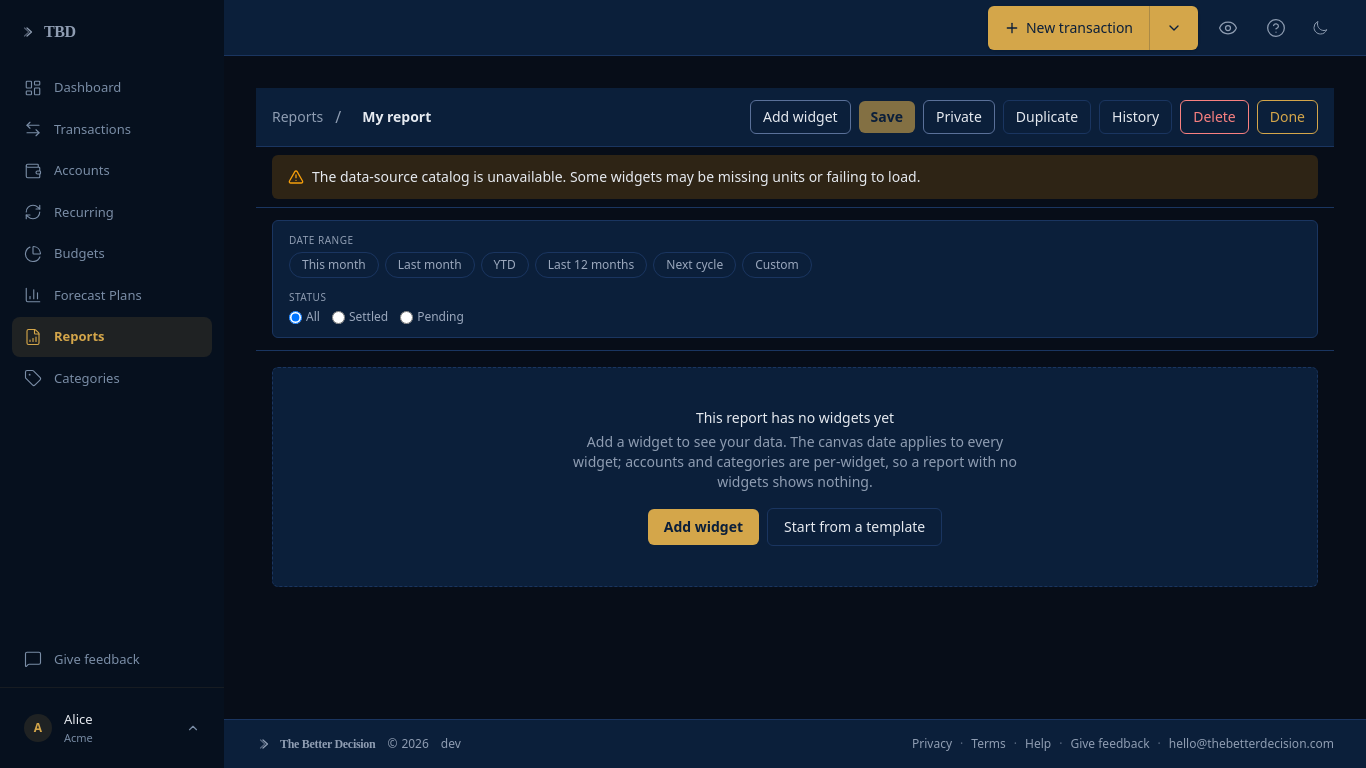
Test: ReportEditorPage › adds a KPI widget through the picker and surfaces it on the canvas
Expected: the element with test id "report-editor" is shown, [256, 88, 1334, 603]
What coordinates should you click on to do the following:
click the button with test id "report-editor-add-widget"
I would click on:
 (800, 117)
Its box is [750, 100, 851, 134].
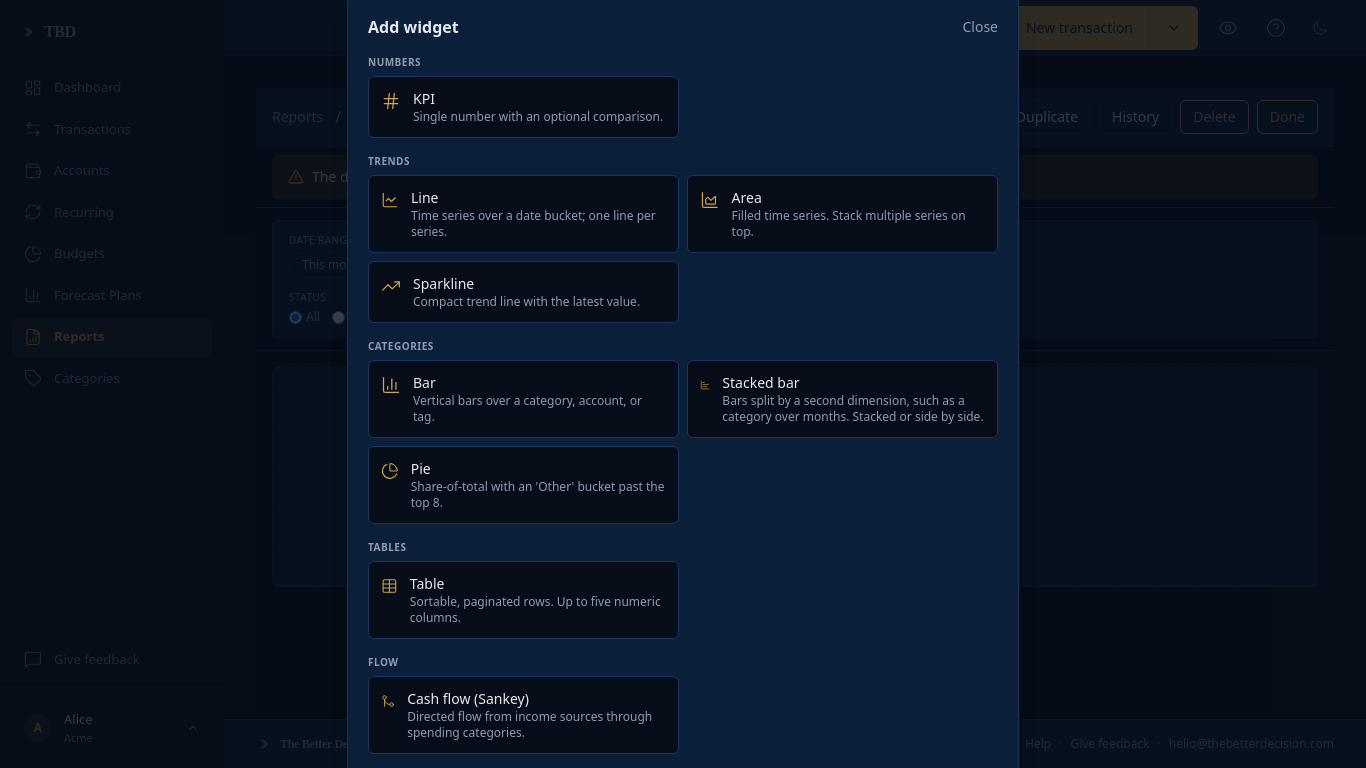
What coordinates should you click on to do the following:
click the button with test id "widget-picker-option-kpi"
I would click on:
 (524, 106)
Its box is [368, 76, 679, 138].
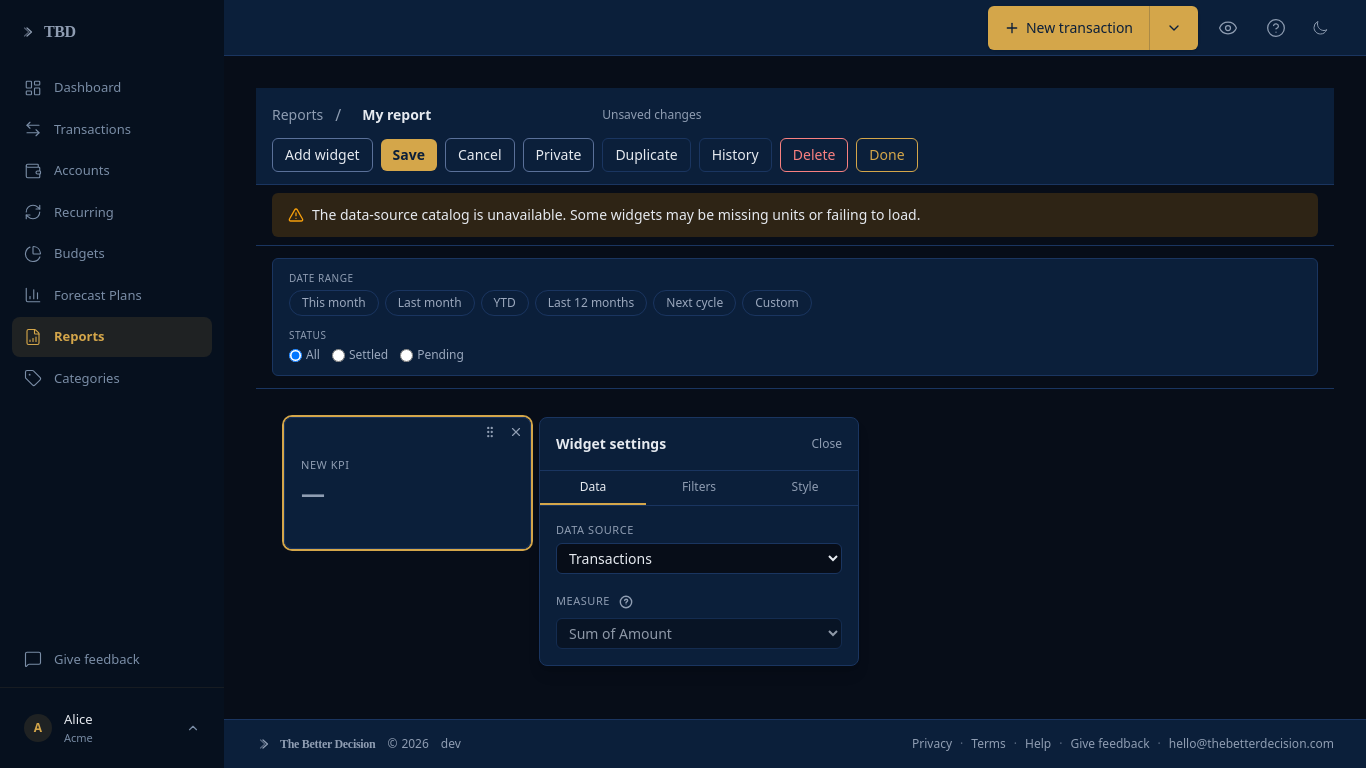
Expected: the element with test id "kpi-widget" is shown, [284, 417, 531, 549]
Expected: the dialog with test id "widget-picker" is gone
Expected: the dialog with test id "widget-editor-popover" is shown, [539, 417, 859, 666]
